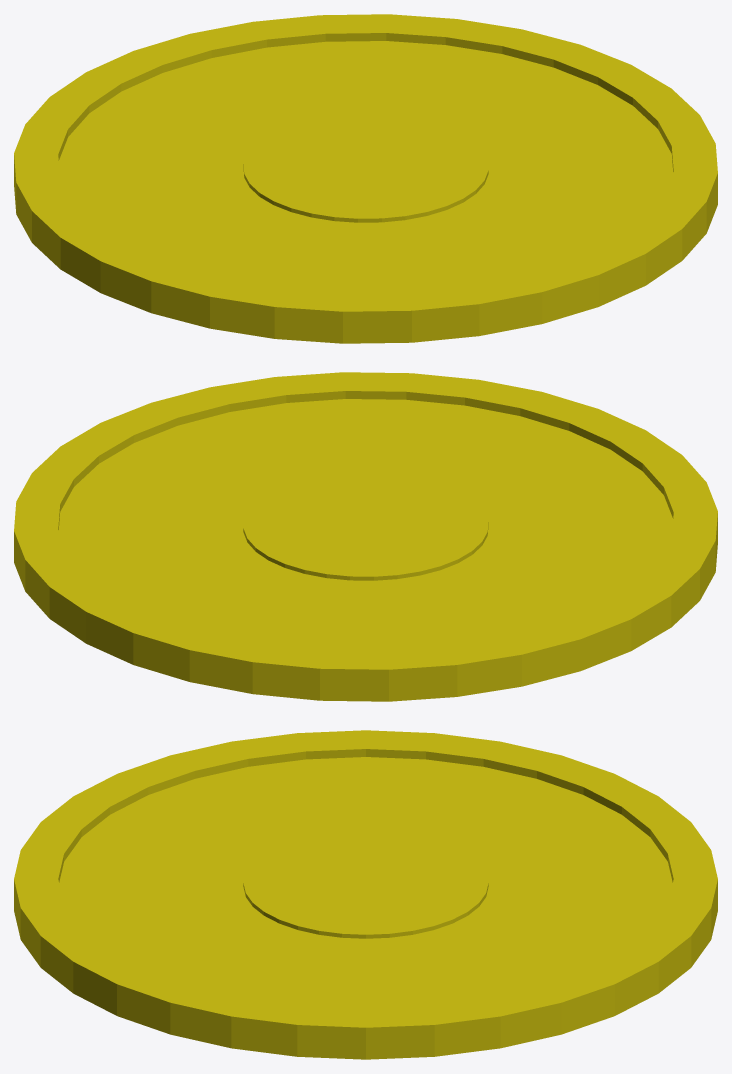
The model's file is Coin.fbx.
3 renders of one model, top to bottom at view 1: azimuth 30°, elevation 25°; view 2: azimuth 150°, elevation 25°; view 3: azimuth 270°, elevation 25°, orthographic.
Visible parts, largest first — view 1: Cylinder; view 2: Cylinder; view 3: Cylinder.
Part boxes in pixels (bbox=[...]): Cylinder: bbox=[14, 14, 717, 343]; Cylinder: bbox=[14, 372, 717, 701]; Cylinder: bbox=[14, 730, 717, 1059].
Size of the model in its own units: 200 by 10 by 200.
